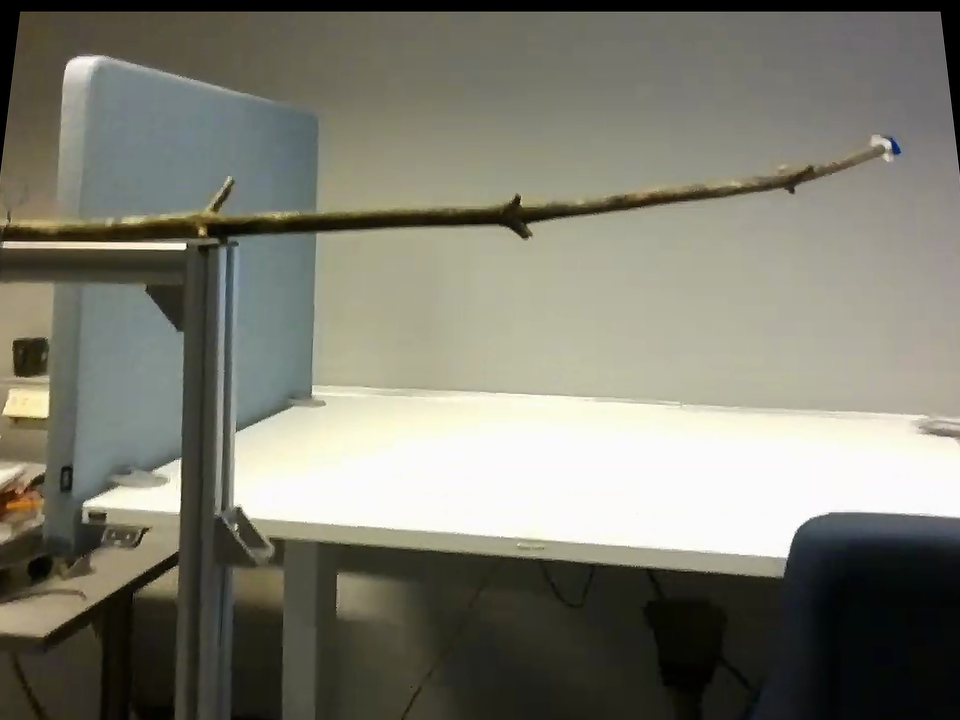branch: (185, 165, 830, 249), (481, 128, 860, 246)
